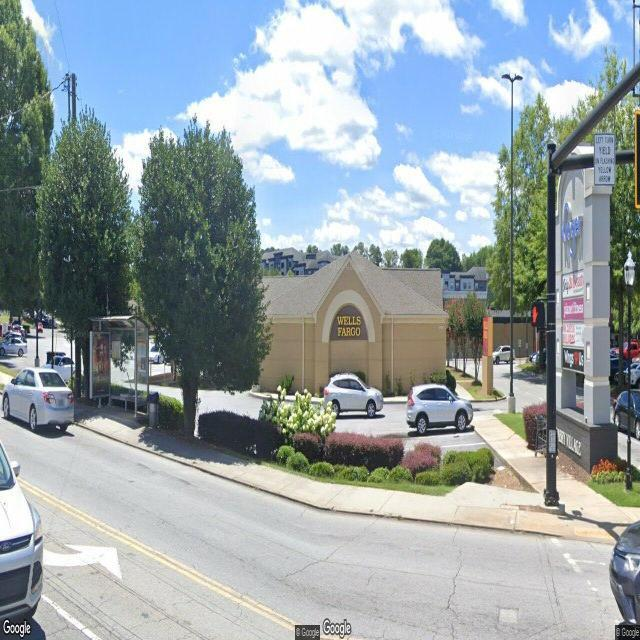seating: (120, 392, 142, 414)
shelter: (88, 317, 152, 421)
trash_can: (148, 393, 158, 428)
